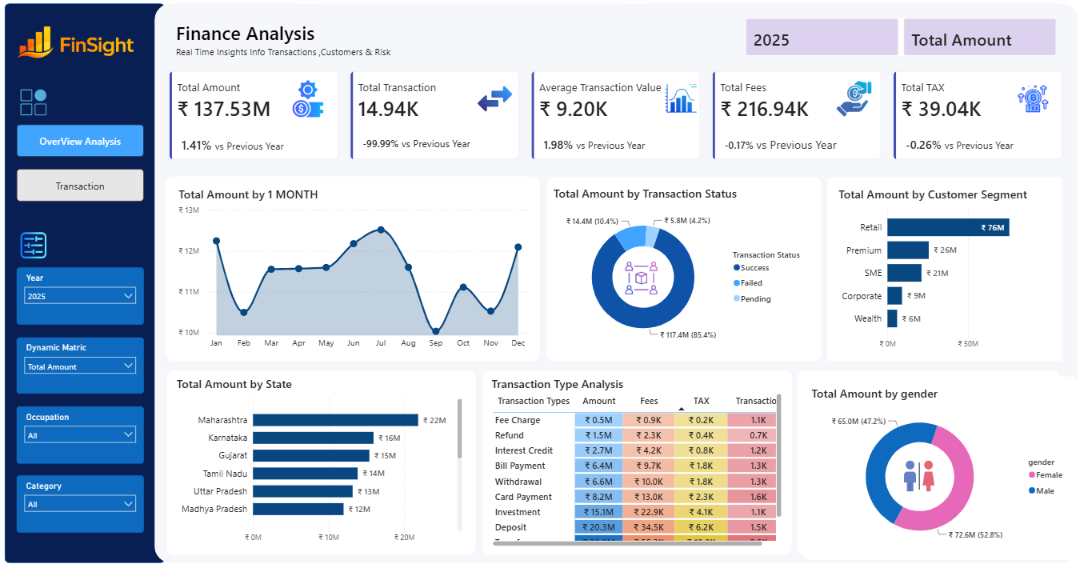

The dashboard page shown, as its layout file describes it:
{"tool":"powerbi","page":{"name":"OverView Analysis","canvas":[1800,950],"ordinal":0},"visuals":[{"type":"shape","box":[25.1,15.1,262.4,915.1],"z":0},{"type":"shape","box":[270,15,1510,915],"z":1000},{"type":"image","box":[38,38,210,82],"z":2000},{"type":"cardVisual","fields":{"Data":["finance_transactions.Dashboard Title"]},"box":[288,24,490,96],"z":3000},{"type":"cardVisual","fields":{"Data":["finance_transactions.Total Amount","finance_transactions.Total Transaction","finance_transactions.Average Transaction Value","finance_transactions.Total Fees","finance_transactions.Total TAX"]},"box":[288,120,1476,156],"z":4000},{"type":"slicer","fields":{"Values":["Calendar Table.Year"]},"box":[43.3,446.7,208.3,93.3],"z":5000},{"type":"image","box":[490,140,60,60],"z":6000},{"type":"image","box":[796,140,60,60],"z":7000},{"type":"image","box":[1384,140,60,60],"z":8000},{"type":"image","box":[1103.3,140,53.3,58.3],"z":9000},{"type":"image","box":[1676,140,60,60],"z":10000},{"type":"slicer","fields":{"Values":["Dynamic Matric.Dynamic Matric"]},"box":[43.3,561.7,208.3,91.7],"z":11000},{"type":"shape","box":[288.3,298.3,611.7,301.7],"z":12000},{"type":"areaChart","fields":{"Y":["finance_transactions.Total Amount"],"Category":["Calendar Table.1 MONTH"]},"box":[303.3,313.3,583.3,275],"z":13000},{"type":"cardVisual","fields":{"Data":["finance_transactions.Selected Year","Dynamic Matric.Selected Dynamic Measure"]},"box":[1231.7,35,518.3,71.7],"z":14000},{"type":"shape","box":[910,300,450,300],"z":15000,"group":"g1"},{"type":"shape","box":[1370,300,383.3,300],"z":15000},{"type":"shape","box":[1330,624,450,300],"z":15000,"group":"g2"},{"type":"group","id":"g1","title":"Group 1","box":[910,300,450,300],"z":16000},{"type":"donutChart","fields":{"Y":["finance_transactions.Total Amount"],"Category":["finance_transactions.transaction_status"]},"box":[916.7,313.3,435,275],"z":16000,"group":"g1"},{"type":"donutChart","fields":{"Y":["finance_transactions.Total Amount"],"Category":["customers.gender"]},"box":[1340,638,430,274],"z":16000,"group":"g2"},{"type":"barChart","fields":{"Y":["finance_transactions.Total Amount"],"Category":["customers.customer_segment"]},"box":[1383.3,313.3,352.2,275.6],"z":17000},{"type":"shape","box":[290,614.4,505.6,302.2],"z":18000},{"type":"barChart","fields":{"Y":["finance_transactions.Total Amount"],"Category":["customers.state"]},"box":[301,623,477,284],"z":19000},{"type":"shape","box":[805.6,614.4,505.6,302.2],"z":20000},{"type":"tableEx","title":"Transaction Type Analysis","fields":{"Values":["finance_transactions.transaction_type","finance_transactions.Total Amount","finance_transactions.Total Fees","finance_transactions.Total TAX","finance_transactions.Total Transaction"]},"box":[816,623,484,284],"z":21000},{"type":"shape","box":[1321.8,614.5,428.2,301.8],"z":22000},{"type":"group","id":"g2","title":"Group 1","box":[1330,624,450,300],"z":23000},{"type":"image","box":[1026.4,435.5,77.3,57.3],"z":24000},{"type":"image","box":[1481.8,758.2,77.3,57.3],"z":25000},{"type":"slicer","fields":{"Values":["customers.occupation"]},"box":[43.3,673.3,208.3,93.3],"z":26000},{"type":"slicer","fields":{"Values":["finance_transactions.merchant_category"]},"box":[43.3,786.7,208.3,93.3],"z":27000},{"type":"pageNavigator","box":[43.3,213.3,208.3,126.7],"z":28000},{"type":"image","box":[44.1,155.3,55.6,42.5],"z":28001},{"type":"image","box":[44.1,385.9,55.6,49.1],"z":28002}]}

Visuals, with their boxes on the page's 1800x950 design canvas (x1, y1, x2, y2). These are canvas units, not pixel positions in the 1085x567 screenshot, which may show the page scaled, cropped or inside an application window:
shape: 25:15:288:930
shape: 270:15:1780:930
image: 38:38:248:120
cardVisual - finance_transactions.Dashboard Title: 288:24:778:120
cardVisual - finance_transactions.Total Amount x finance_transactions.Total Transaction: 288:120:1764:276
slicer - Calendar Table.Year: 43:447:252:540
image: 490:140:550:200
image: 796:140:856:200
image: 1384:140:1444:200
image: 1103:140:1157:198
image: 1676:140:1736:200
slicer - Dynamic Matric.Dynamic Matric: 43:562:252:653
shape: 288:298:900:600
areaChart - finance_transactions.Total Amount x Calendar Table.1 MONTH: 303:313:887:588
cardVisual - finance_transactions.Selected Year x Dynamic Matric.Selected Dynamic Measure: 1232:35:1750:107
shape: 910:300:1360:600
shape: 1370:300:1753:600
shape: 1330:624:1780:924
"Group 1" group: 910:300:1360:600
donutChart - finance_transactions.Total Amount x finance_transactions.transaction_status: 917:313:1352:588
donutChart - finance_transactions.Total Amount x customers.gender: 1340:638:1770:912
barChart - finance_transactions.Total Amount x customers.customer_segment: 1383:313:1736:589
shape: 290:614:796:917
barChart - finance_transactions.Total Amount x customers.state: 301:623:778:907
shape: 806:614:1311:917
"Transaction Type Analysis" tableEx: 816:623:1300:907
shape: 1322:614:1750:916
"Group 1" group: 1330:624:1780:924
image: 1026:436:1104:493
image: 1482:758:1559:816
slicer - customers.occupation: 43:673:252:767
slicer - finance_transactions.merchant_category: 43:787:252:880
pageNavigator: 43:213:252:340
image: 44:155:100:198
image: 44:386:100:435
